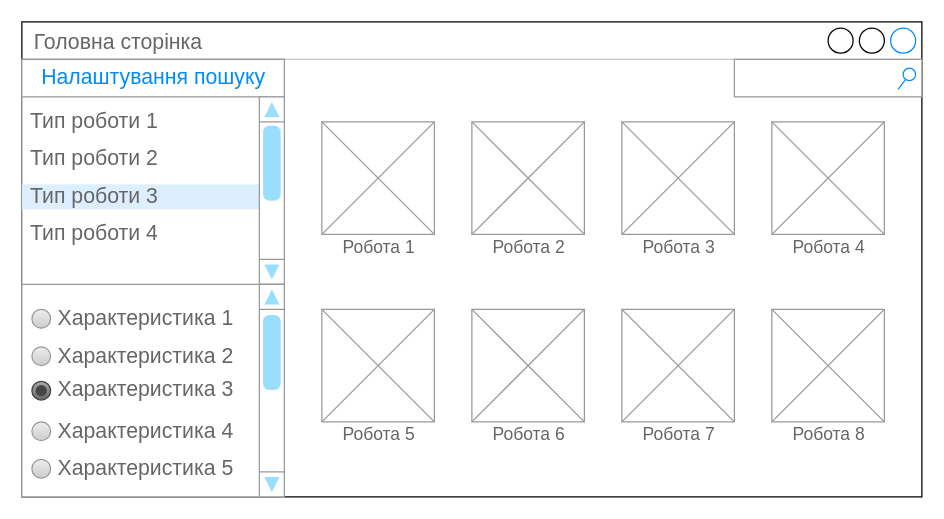
This 944x519 diagram has some shape labels left out. The shapes that lost their labels are listed below. From the top down, each one's centre as x and y in pixels, then its label:
At (x=827, y=77): "Пошук роботи".
At (x=152, y=271): "Тип роботи 5".
